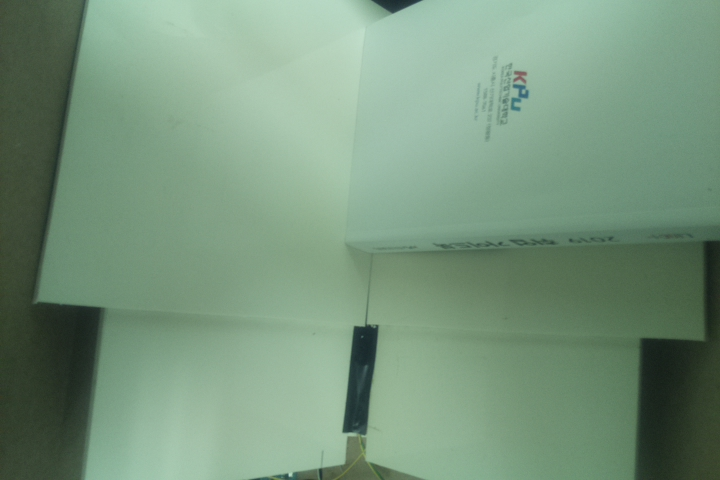book: (343, 1, 720, 256)
